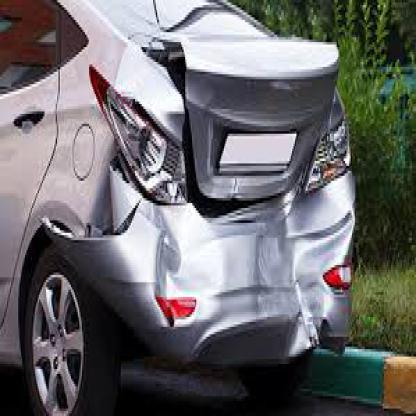dent: (145, 221, 206, 288), (246, 232, 296, 290), (284, 304, 318, 352)
